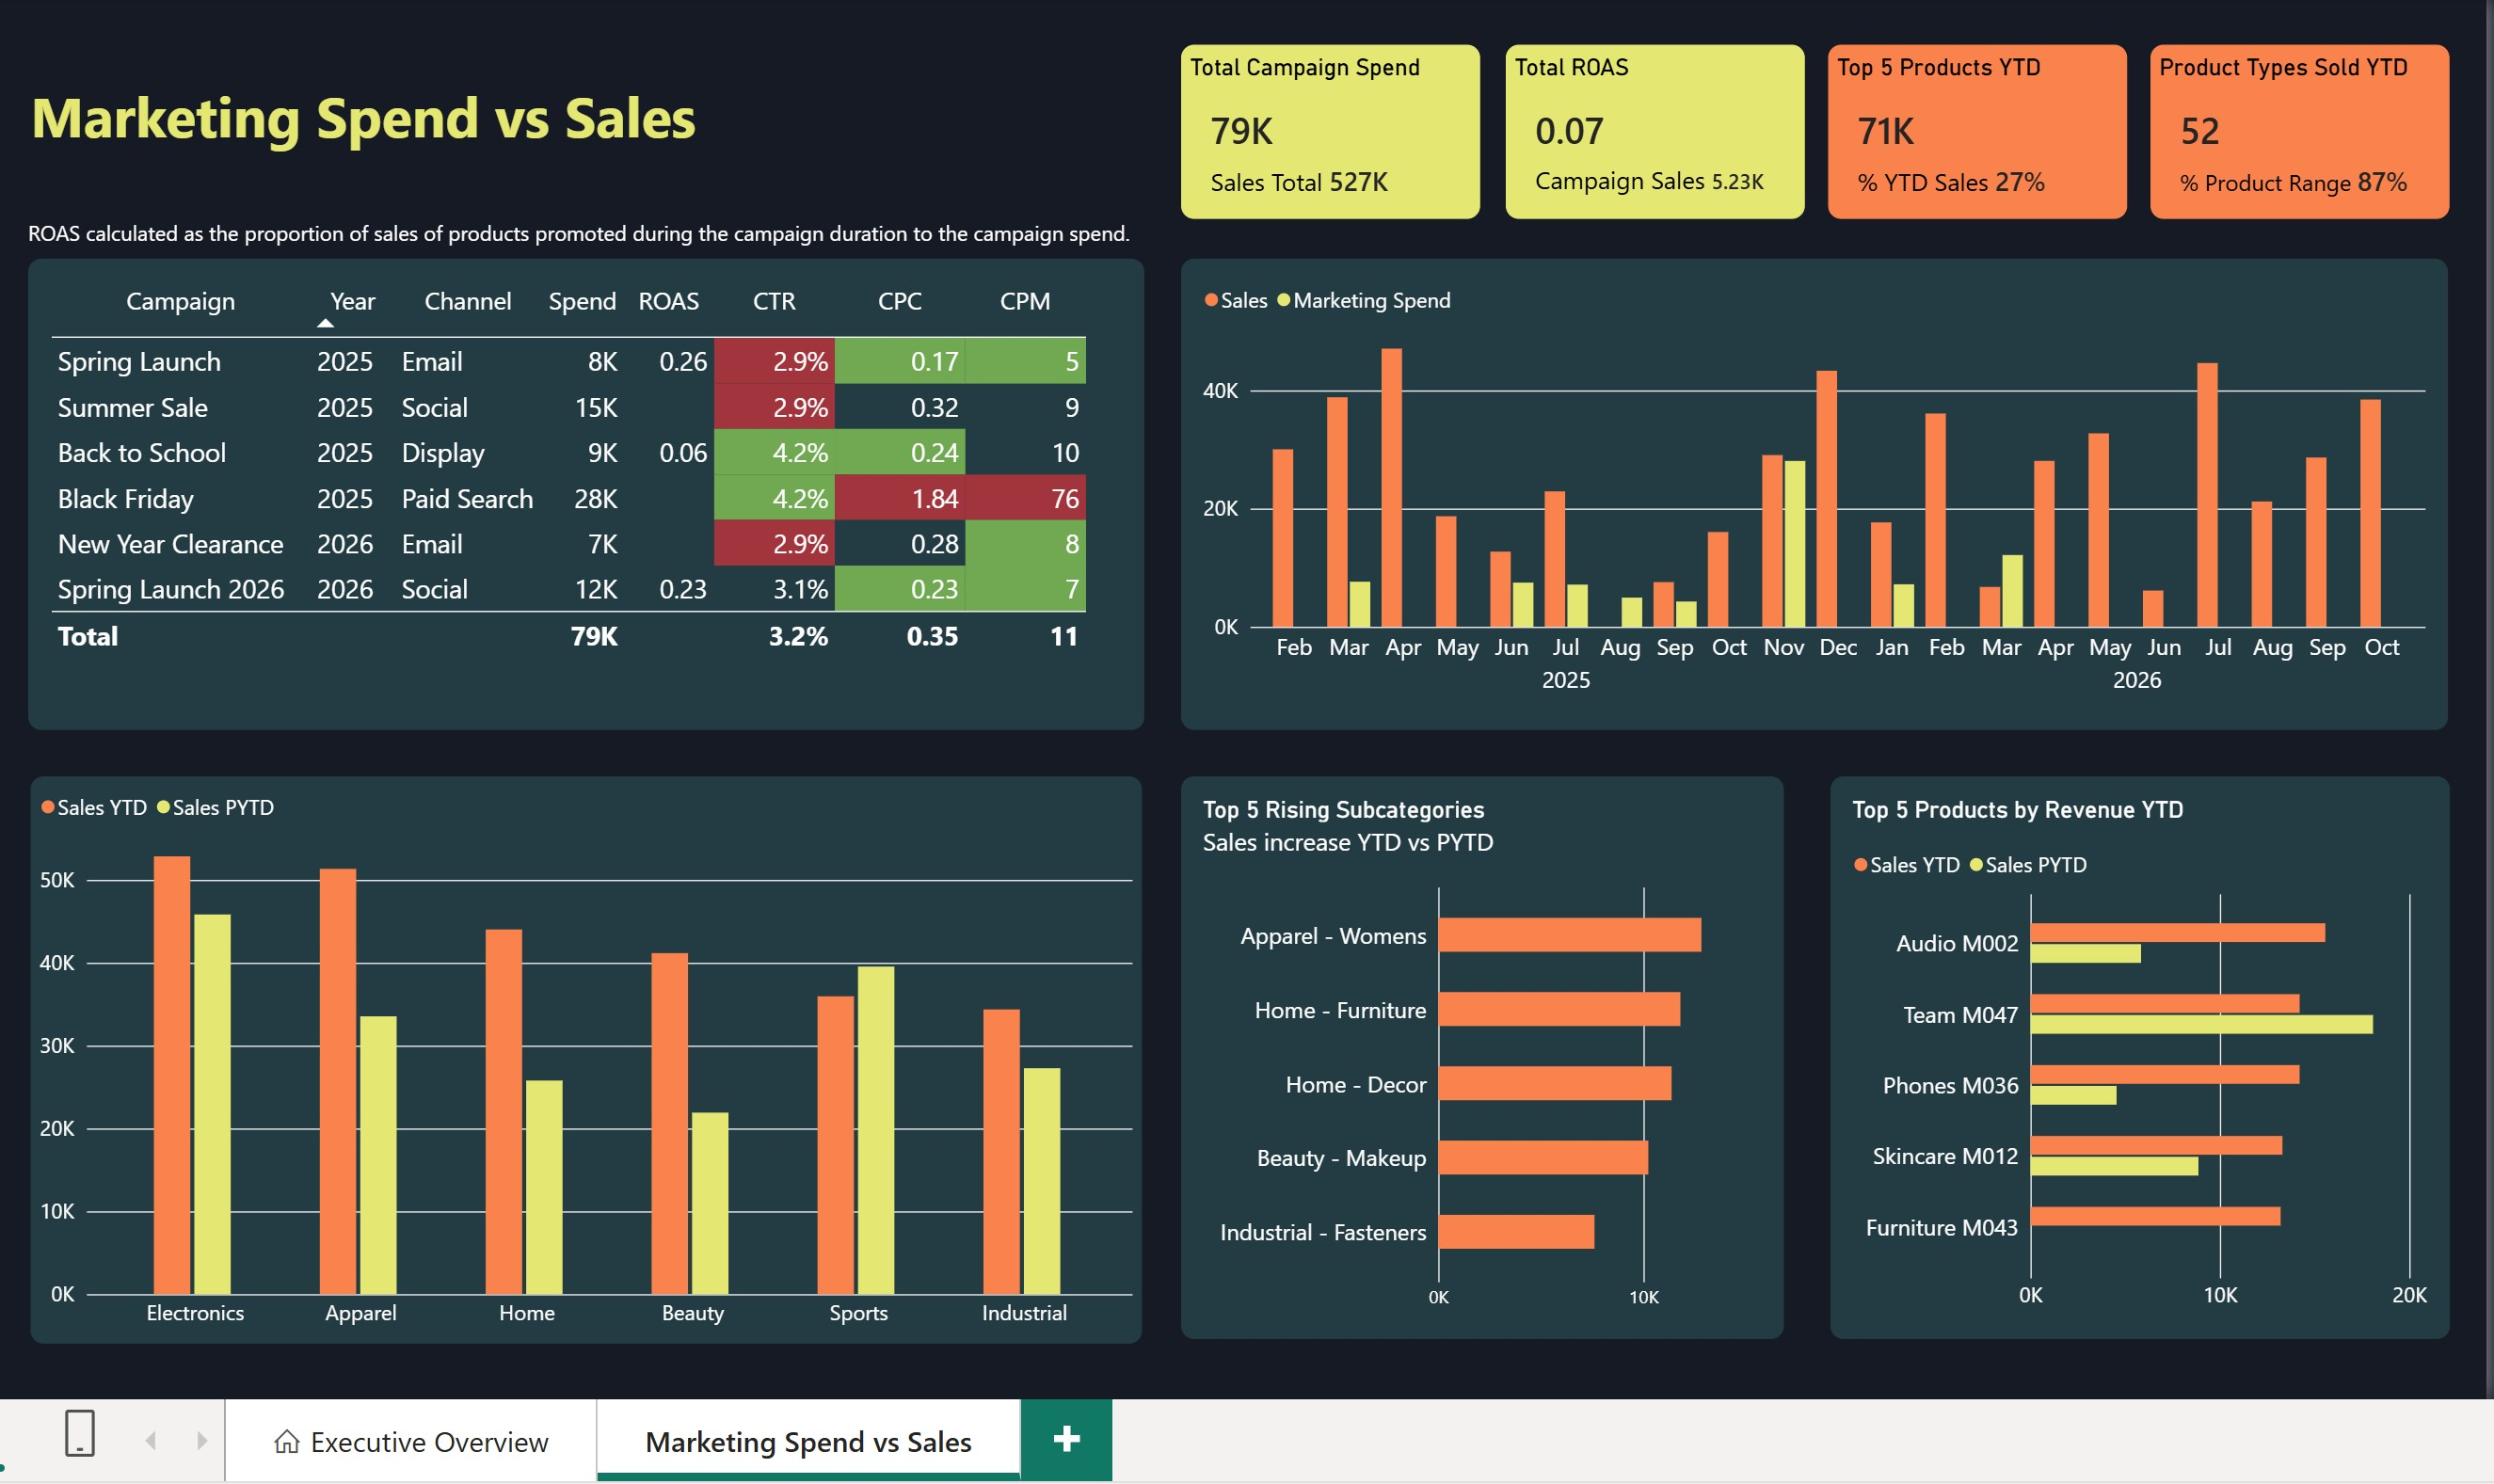

This screenshot's page, from the dashboard's own definition file:
{"tool":"powerbi","page":{"name":"Marketing Spend vs Sales","canvas":[1920,1080],"ordinal":1},"visuals":[{"type":"clusteredColumnChart","fields":{"Category":["dim_products.category Hierarchy.category","dim_products.category Hierarchy.subcategory","dim_products.category Hierarchy.product_name"],"Y":["_measures.Sales YTD","_measures.Sales PYTD"]},"box":[30.8,601.4,854.9,436.5],"z":0},{"type":"cardVisual","title":"Total Campaign Spend","fields":{"Data":["_measures.campaign_spend"]},"box":[916.5,38,230,134],"z":1000},{"type":"textbox","box":[30.8,63.4,566.9,81.5],"z":2000},{"type":"cardVisual","title":"Total ROAS","fields":{"Data":["_measures.campaign_ROAS_overall"]},"box":[1164.7,38,230,134],"z":3000},{"type":"cardVisual","title":"Campaign Spend","fields":{"Data":["_measures.campaign_sales_during_duration"]},"box":[344.2,300.7,240.9,92.4],"z":4000},{"type":"tableEx","fields":{"Values":["dim_campaign.campaign_name","dim_campaign.start_date.Variation.Date Hierarchy.Year","dim_campaign.channel","_measures.campaign_spend","_measures.campaign_ROAS","_measures.CTR","_measures.campaign_CPC","_measures.campaign_CPM"]},"box":[29,202.9,858.6,362.3],"z":5000},{"type":"textbox","box":[29,172.1,867.8,35.8],"z":6000},{"type":"clusteredBarChart","title":"Top 5 Products by Revenue YTD","fields":{"Category":["dim_products.product_name"],"Y":["_measures.Sales YTD","_measures.Sales PYTD"]},"box":[1414.6,601.4,476.4,432.9],"z":7000},{"type":"clusteredColumnChart","fields":{"Category":["dim_date.date.Variation.Date Hierarchy.Year","dim_date.month_short"],"Y":["_measures.total_order_value","Sum(fact_campaign_spend.spend)"]},"box":[916.5,202.9,974.5,362.3],"z":8000},{"type":"clusteredBarChart","title":"Top 5 Rising Subcategories","fields":{"Category":["dim_products.category_subcategory Hierarchy.category_subcategory","dim_products.category_subcategory Hierarchy.product_name"],"Y":["_measures.sales_change"]},"box":[916.5,601.4,463.7,432.9],"z":9000},{"type":"cardVisual","title":"Top 5 Products YTD","fields":{"Data":["_measures.product_sales_top_5_YTD"]},"box":[1412.8,38,230,134],"z":10000},{"type":"cardVisual","title":"Product Types Sold YTD","fields":{"Data":["_measures.products_with_sales_YTD"]},"box":[1661,38,230,134],"z":11000}]}

Visuals, with their boxes on the page's 1920x1080 design canvas (x1, y1, x2, y2). These are canvas units, not pixel positions in the 2494x1484 screenshot, which may show the page scaled, cropped or inside an application window:
clusteredColumnChart - dim_products.category Hierarchy.category x dim_products.category Hierarchy.subcategory: bbox=[31, 601, 886, 1038]
"Total Campaign Spend" cardVisual: bbox=[916, 38, 1146, 172]
textbox: bbox=[31, 63, 598, 145]
"Total ROAS" cardVisual: bbox=[1165, 38, 1395, 172]
"Campaign Spend" cardVisual: bbox=[344, 301, 585, 393]
tableEx - dim_campaign.campaign_name x dim_campaign.start_date.Variation.Date Hierarchy.Year: bbox=[29, 203, 888, 565]
textbox: bbox=[29, 172, 897, 208]
"Top 5 Products by Revenue YTD" clusteredBarChart: bbox=[1415, 601, 1891, 1034]
clusteredColumnChart - dim_date.date.Variation.Date Hierarchy.Year x dim_date.month_short: bbox=[916, 203, 1891, 565]
"Top 5 Rising Subcategories" clusteredBarChart: bbox=[916, 601, 1380, 1034]
"Top 5 Products YTD" cardVisual: bbox=[1413, 38, 1643, 172]
"Product Types Sold YTD" cardVisual: bbox=[1661, 38, 1891, 172]
